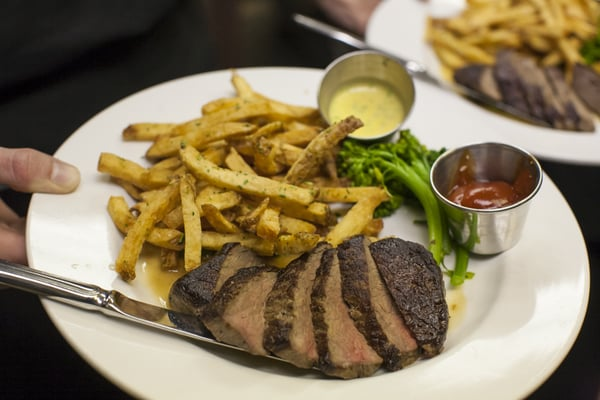sushi: (430, 141, 542, 257), (317, 49, 416, 144)
